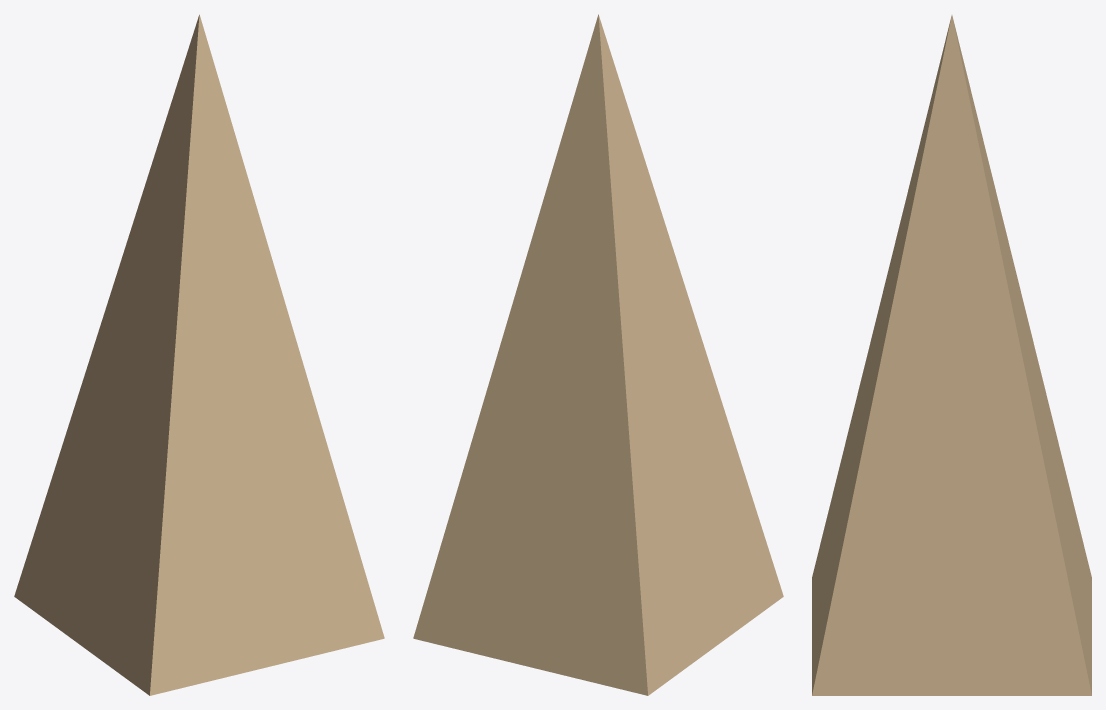
File: obelisk.gltf
The picture shows the model from 3 angles, left to right: view 1: azimuth 30°, elevation 25°; view 2: azimuth 150°, elevation 25°; view 3: azimuth 270°, elevation 25°; orthographic projection. The views are drawn at different scales.
Visible parts, largest first — view 1: CarvedObelisk; view 2: CarvedObelisk; view 3: CarvedObelisk.
Part boxes in pixels (box(x1,y1,x2,y2)): CarvedObelisk: box(14, 14, 384, 695); CarvedObelisk: box(413, 14, 783, 695); CarvedObelisk: box(812, 15, 1091, 695).
Bounding box in the file's own units: 0.44 × 1.08 × 0.44.
